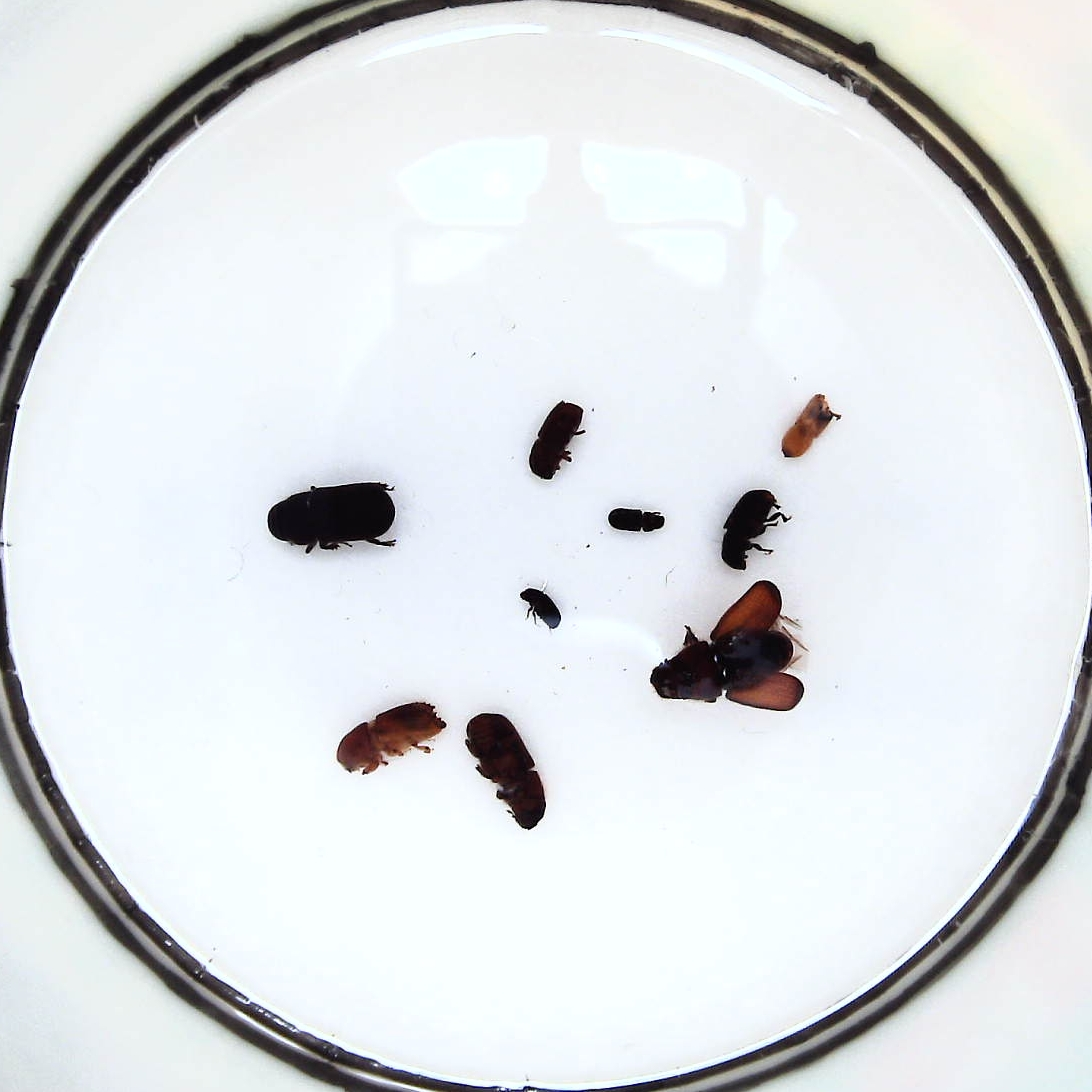Boerner: (338, 701, 448, 777)
Leconte: (650, 579, 805, 711), (465, 713, 547, 831), (268, 483, 396, 551)
acuminatus: (521, 587, 562, 630), (607, 508, 665, 533)
armandi: (721, 489, 777, 570)
coleoptera: (781, 394, 833, 457)
linnaeus: (528, 399, 583, 481)
